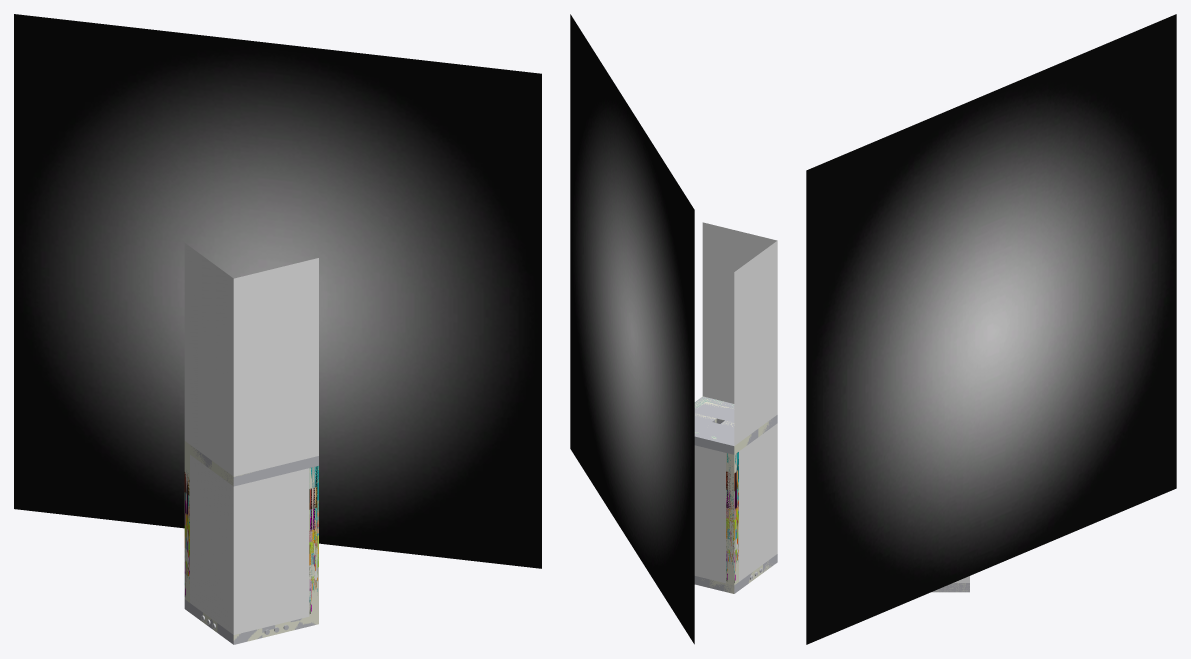
The model's file is 0-ArrangementMain.fbx.
3 views of the same model, side by side, from view 1: azimuth 30°, elevation 25°; view 2: azimuth 150°, elevation 25°; view 3: azimuth 270°, elevation 25° (orthographic). The views are drawn at different scales.
Parts seen in each view (by area): view 1: Glow, BackgroundFake (×2), MaskQuad (×2), _Combined_VisChild_PillarClip, PillarLeft, Cube; view 2: Glow, BackgroundFake (×2), MaskQuad (×2), Cube (×2), _Combined_VisChild_PillarClip, PillarRight; view 3: Glow.
Boxes of the visible parts, left/top/right/bottom form: Glow: left=14, top=14, right=541, bottom=568; BackgroundFake (×2): left=184, top=243, right=318, bottom=476; MaskQuad (×2): left=190, top=455, right=309, bottom=634; _Combined_VisChild_PillarClip: left=184, top=441, right=318, bottom=616; PillarLeft: left=309, top=466, right=318, bottom=613; Cube: left=221, top=456, right=318, bottom=486; Glow: left=570, top=14, right=694, bottom=644; BackgroundFake (×2): left=702, top=222, right=777, bottom=445; MaskQuad (×2): left=694, top=423, right=777, bottom=583; Cube (×2): left=694, top=396, right=777, bottom=454; _Combined_VisChild_PillarClip: left=694, top=396, right=770, bottom=585; PillarRight: left=726, top=452, right=738, bottom=582; Glow: left=806, top=14, right=1176, bottom=644.
Bounding box in the file's own units: 35.36 × 53.67 × 35.36.
7 materials, 4 textured.
